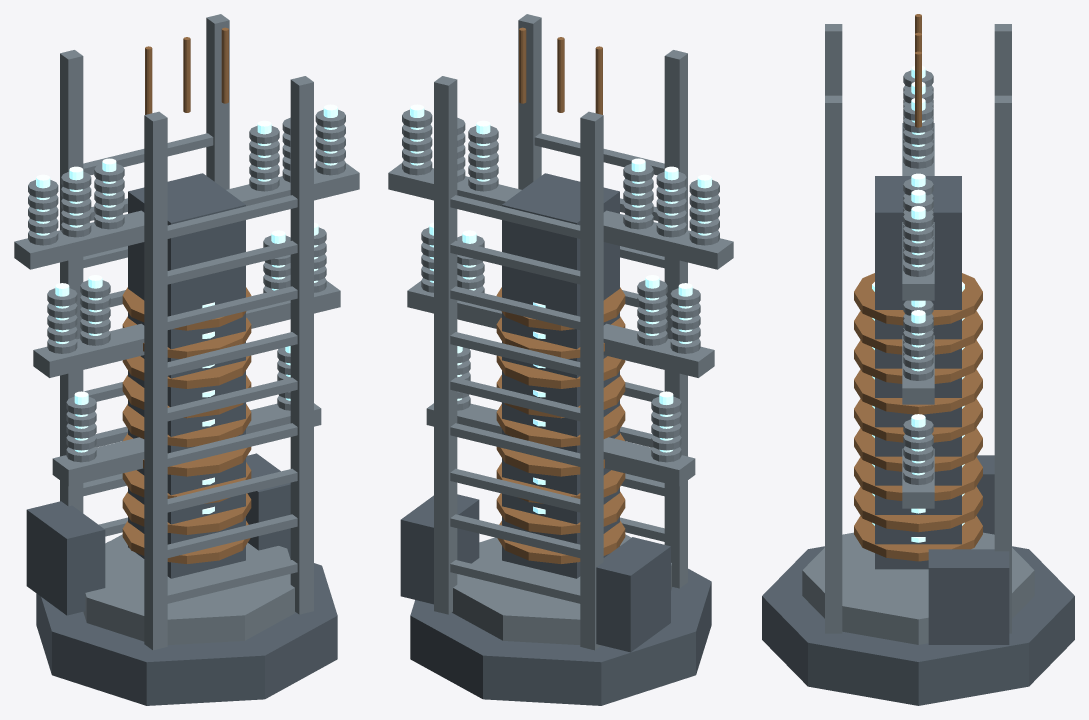
The model's file is relay_t3_d0.meshopt.glb.
The picture shows the model from 3 angles, left to right: view 1: azimuth 30°, elevation 25°; view 2: azimuth 150°, elevation 25°; view 3: azimuth 270°, elevation 25°; orthographic projection.
Parts seen in each view (by area): view 1: BASE_ARMOR_GEOMETRY, BASE_SIGNAL_GEOMETRY; view 2: BASE_ARMOR_GEOMETRY, BASE_SIGNAL_GEOMETRY; view 3: BASE_ARMOR_GEOMETRY, BASE_SIGNAL_GEOMETRY.
Boxes of the visible parts, x1,y1,x2,y2 form: BASE_ARMOR_GEOMETRY: [14, 14, 359, 705]; BASE_SIGNAL_GEOMETRY: [36, 104, 337, 514]; BASE_ARMOR_GEOMETRY: [388, 14, 733, 705]; BASE_SIGNAL_GEOMETRY: [410, 104, 711, 514]; BASE_ARMOR_GEOMETRY: [762, 14, 1074, 705]; BASE_SIGNAL_GEOMETRY: [872, 65, 964, 542].
Bounding box in the file's own units: 1.89 × 3.31 × 1.55.
